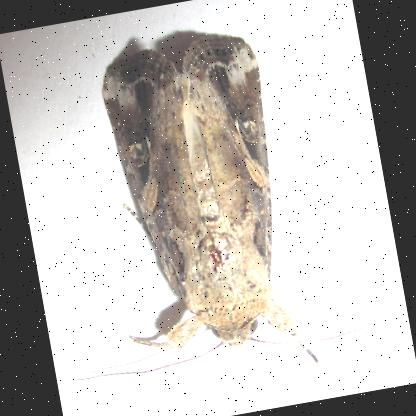Fall Armyworm Moth: (17, 9, 402, 411)
